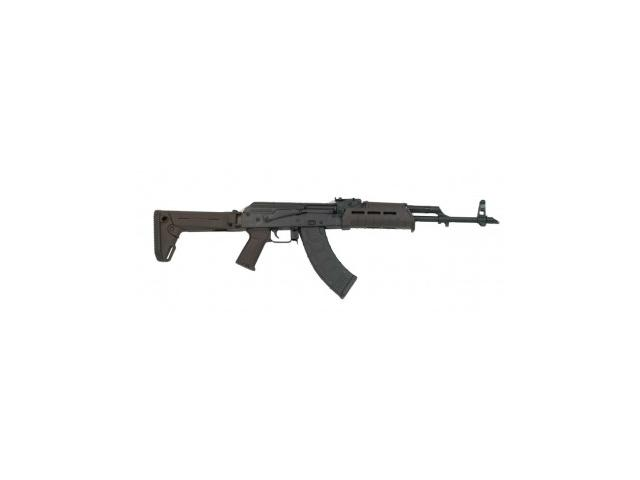rifle: (142, 197, 504, 301)
